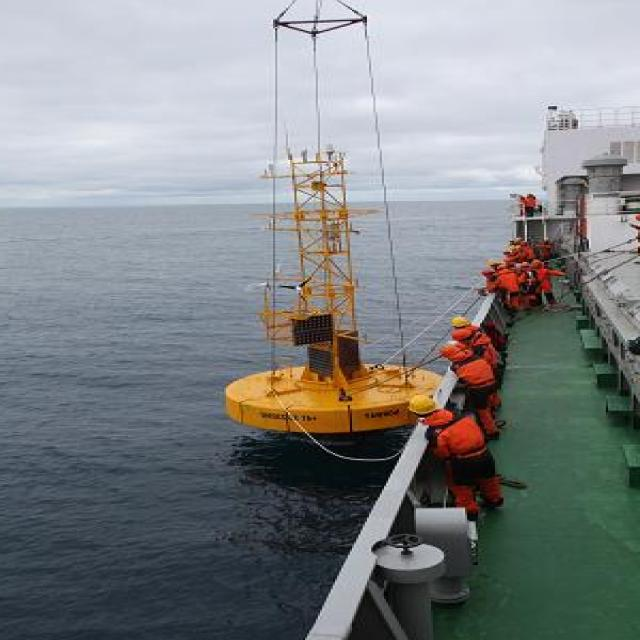buoy: (216, 139, 439, 429)
